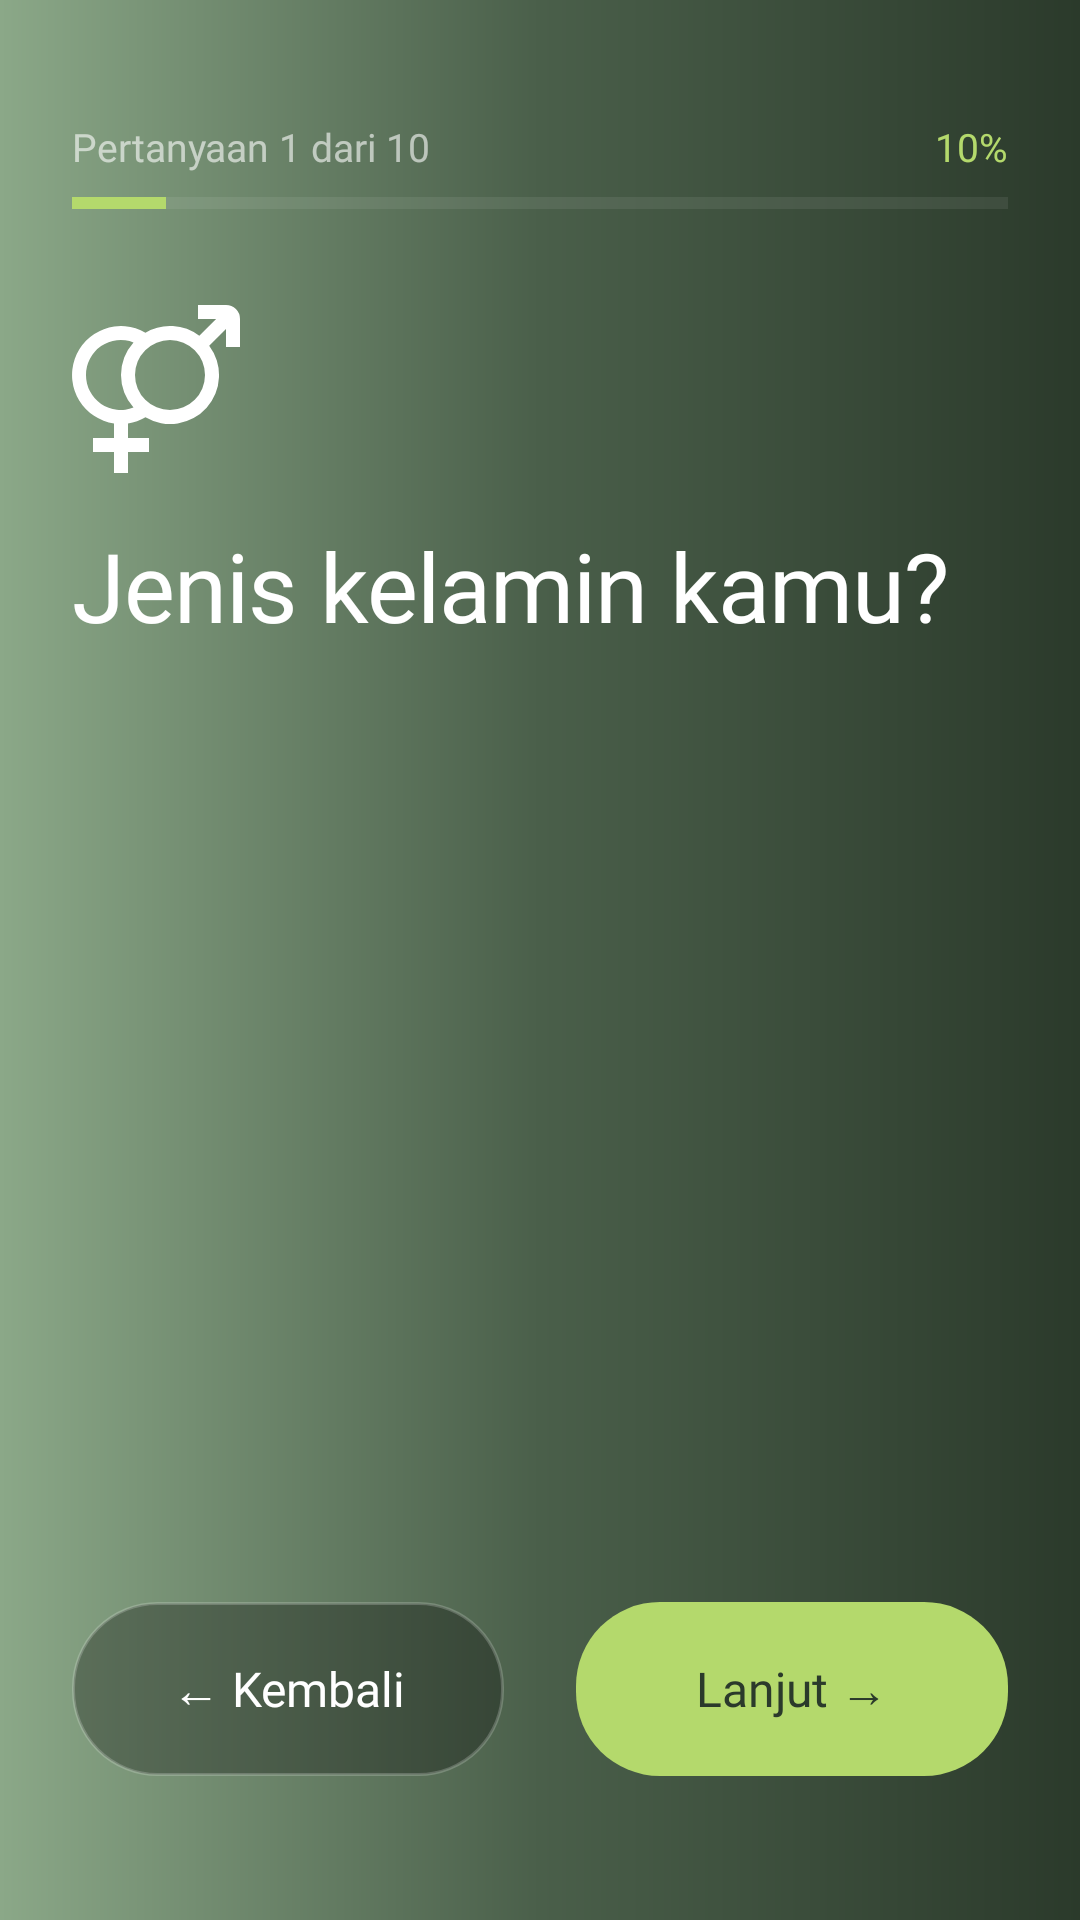

Named icons in this screenshot (1080w x 1920h) and their centers, [x,y]:
gender: [156,389]
